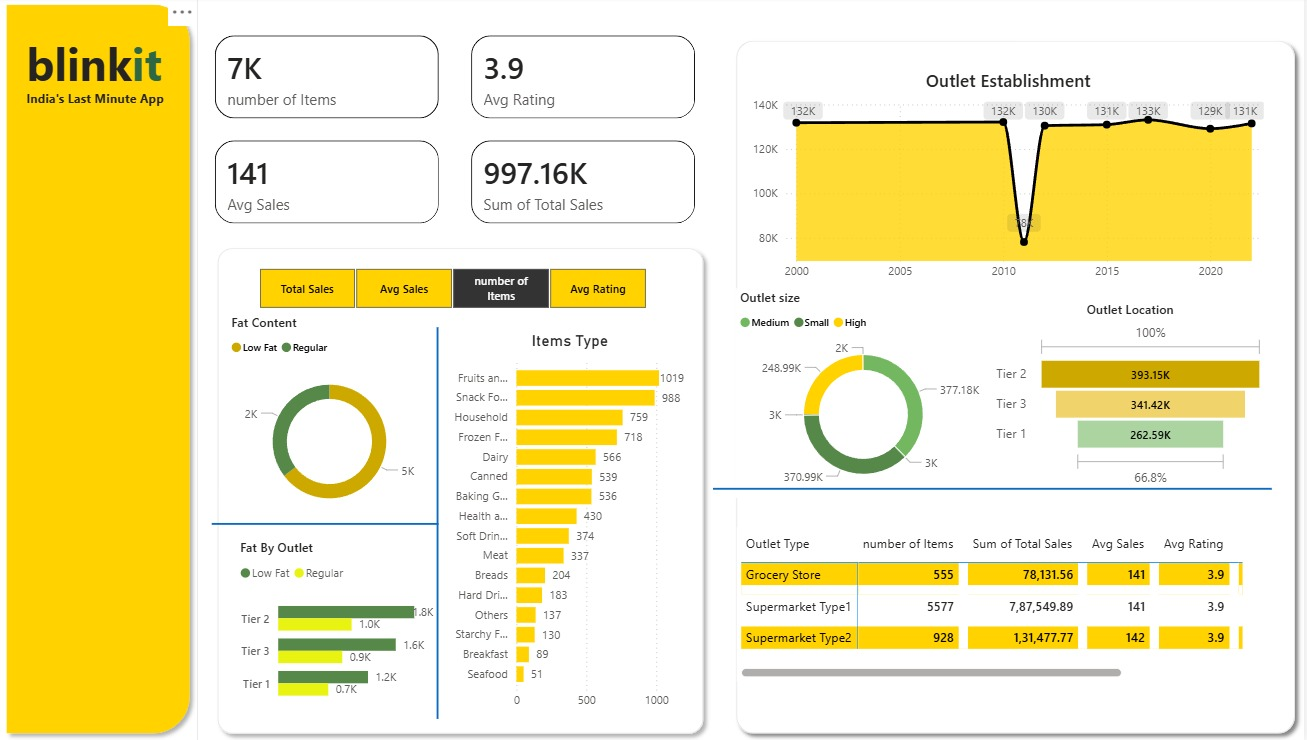

Layout of this report page (visuals, bound fields, positions):
{"tool":"powerbi","page":{"name":"Page 1","canvas":[1400,800],"ordinal":0},"visuals":[{"type":"shape","box":[0,0,214.6,800],"z":0},{"type":"textbox","box":[25.5,34.5,201.1,103.6],"z":1000},{"type":"textbox","box":[257.5,0,215,800],"z":2000},{"type":"textbox","box":[25.5,94.6,204.1,43.5],"z":3000},{"type":"cardVisual","fields":{"Data":["BlinkIT Grocery Data.number of Items"]},"box":[216.1,25.5,274.7,123],"z":4000},{"type":"cardVisual","fields":{"Data":["Sum(BlinkIT Grocery Data.Total Sales)"]},"box":[490.8,138.1,274.7,123.1],"z":5000},{"type":"cardVisual","fields":{"Data":["BlinkIT Grocery Data.Avg Rating"]},"box":[490.8,25.5,274.7,123],"z":6000},{"type":"cardVisual","fields":{"Data":["BlinkIT Grocery Data.Avg Sales"]},"box":[216.1,138.1,274.7,123.1],"z":7000},{"type":"shape","box":[226.6,261.2,538.8,538.8],"z":8000},{"type":"donutChart","title":"Fat Content","fields":{"Y":["BlinkIT Grocery Data.number of Items"],"Category":["BlinkIT Grocery Data.Item Fat Content"]},"box":[244.6,340.7,220.6,229.6],"z":9000},{"type":"slicer","fields":{"Values":["Metrix.Metrix"]},"box":[255.1,285.2,463.8,55.5],"z":10000},{"type":"clusteredBarChart","title":"Fat By Outlet","fields":{"Y":["BlinkIT Grocery Data.number of Items"],"Category":["BlinkIT Grocery Data.Outlet Location Type"],"Series":["BlinkIT Grocery Data.Item Fat Content"]},"box":[255.1,582.3,217.6,189.1],"z":11000},{"type":"shape","box":[229.6,549.3,243.1,33],"z":12000},{"type":"shape","box":[319.7,355.7,304.7,420.2],"z":13000},{"type":"barChart","title":"Items Type","fields":{"Y":["BlinkIT Grocery Data.number of Items"],"Category":["BlinkIT Grocery Data.Item Type"]},"box":[472.8,358.7,280.7,414.2],"z":14000},{"type":"shape","box":[783.5,39,616.9,760.9],"z":15000},{"type":"lineChart","title":"Outlet Establishment ","fields":{"Category":["BlinkIT Grocery Data.Outlet Establishment Year"],"Y":["Sum(BlinkIT Grocery Data.Total Sales)"]},"box":[804.5,78,558.3,235.6],"z":16000},{"type":"donutChart","title":"Outlet size","fields":{"Y":["Sum(BlinkIT Grocery Data.Total Sales)","BlinkIT Grocery Data.number of Items"],"Category":["BlinkIT Grocery Data.Outlet Size"]},"box":[791,313.7,274.7,225.1],"z":17000},{"type":"funnel","title":"Outlet Location ","fields":{"Y":["Sum(BlinkIT Grocery Data.Total Sales)"],"Category":["BlinkIT Grocery Data.Outlet Location Type"]},"box":[1065.6,327.2,297.2,204.1],"z":18000},{"type":"shape","box":[766.5,519,599.5,19.4],"z":19000},{"type":"pivotTable","fields":{"Rows":["BlinkIT Grocery Data.Outlet Type"],"Values":["BlinkIT Grocery Data.number of Items","Sum(BlinkIT Grocery Data.Total Sales)","BlinkIT Grocery Data.Avg Sales","BlinkIT Grocery Data.Avg Rating","Sum(BlinkIT Grocery Data.Item Visibility)"]},"box":[791.9,569.7,547.3,165.5],"z":20000}]}

Visuals, with their boxes in screenshot pixels (x1, y1, x2, y2), scaled from the page's 1400x800 canvas onto the 1307x740 screenshot:
shape: bbox(0, 0, 200, 739)
textbox: bbox(24, 32, 212, 128)
textbox: bbox(240, 0, 441, 739)
textbox: bbox(24, 88, 214, 128)
cardVisual - BlinkIT Grocery Data.number of Items: bbox(202, 24, 458, 137)
cardVisual - Sum(BlinkIT Grocery Data.Total Sales): bbox(458, 128, 715, 242)
cardVisual - BlinkIT Grocery Data.Avg Rating: bbox(458, 24, 715, 137)
cardVisual - BlinkIT Grocery Data.Avg Sales: bbox(202, 128, 458, 242)
shape: bbox(212, 242, 715, 739)
"Fat Content" donutChart: bbox(228, 315, 434, 528)
slicer - Metrix.Metrix: bbox(238, 264, 671, 315)
"Fat By Outlet" clusteredBarChart: bbox(238, 539, 441, 714)
shape: bbox(214, 508, 441, 539)
shape: bbox(298, 329, 583, 718)
"Items Type" barChart: bbox(441, 332, 703, 715)
shape: bbox(731, 36, 1306, 739)
"Outlet Establishment " lineChart: bbox(751, 72, 1272, 290)
"Outlet size" donutChart: bbox(738, 290, 995, 498)
"Outlet Location " funnel: bbox(995, 303, 1272, 491)
shape: bbox(716, 480, 1275, 498)
pivotTable - BlinkIT Grocery Data.Outlet Type x BlinkIT Grocery Data.number of Items: bbox(739, 527, 1250, 680)
